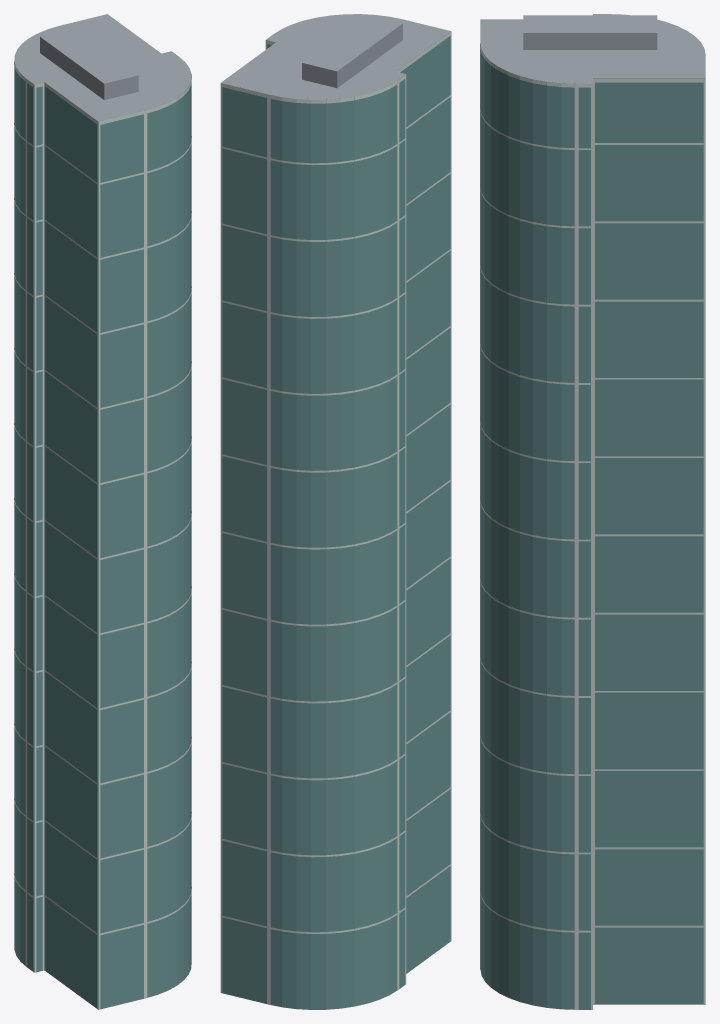
Rendered from hou-wells-fargo-plaza.glb.
3 views of the same model, side by side, from view 1: azimuth 30°, elevation 25°; view 2: azimuth 150°, elevation 25°; view 3: azimuth 270°, elevation 25° (orthographic). The views are drawn at different scales.
Parts seen in each view (by area): view 1: Wells Fargo Plaza; view 2: Wells Fargo Plaza; view 3: Wells Fargo Plaza.
Part boxes in pixels (x1,y1,x2,y2): Wells Fargo Plaza: (14, 14, 191, 1009); Wells Fargo Plaza: (220, 14, 451, 1009); Wells Fargo Plaza: (480, 14, 705, 1009).
Size of the model in its own units: 48.12 by 303 by 65.62.
